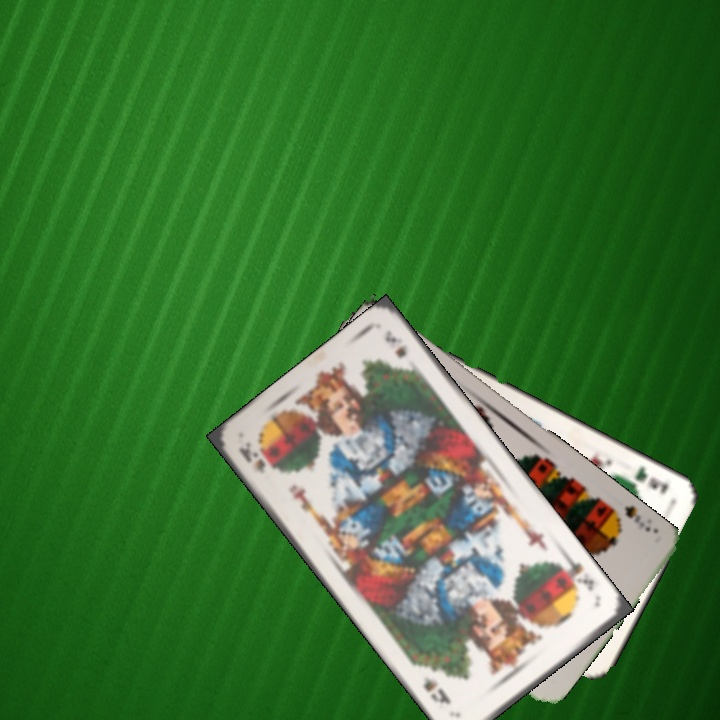GK: (630, 461, 671, 497)
S9: (605, 501, 654, 535)
SK: (554, 554, 597, 594), (235, 437, 268, 476)
